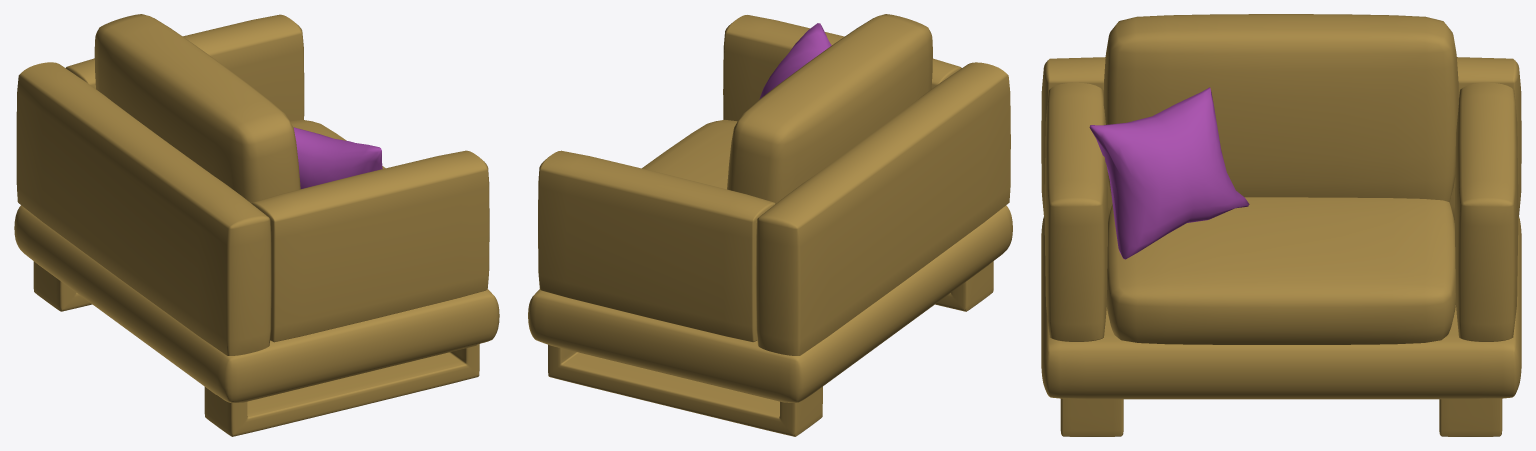
The model's file is Armchair_geo.fbx.
3 renders of one model, left to right at view 1: azimuth 30°, elevation 25°; view 2: azimuth 150°, elevation 25°; view 3: azimuth 270°, elevation 25°, orthographic. The views are drawn at different scales.
Parts seen in each view (by area): view 1: Armchair, Armchair_pillow; view 2: Armchair, Armchair_pillow; view 3: Armchair, Armchair_pillow.
Part boxes in pixels (<box>): Armchair: <box>14,14,499,436</box>; Armchair_pillow: <box>293,127,382,188</box>; Armchair: <box>528,14,1012,436</box>; Armchair_pillow: <box>759,23,831,99</box>; Armchair: <box>1041,14,1521,436</box>; Armchair_pillow: <box>1089,87,1249,259</box>.
Bounding box in the file's own units: 1.1 × 1.07 × 1.48.
